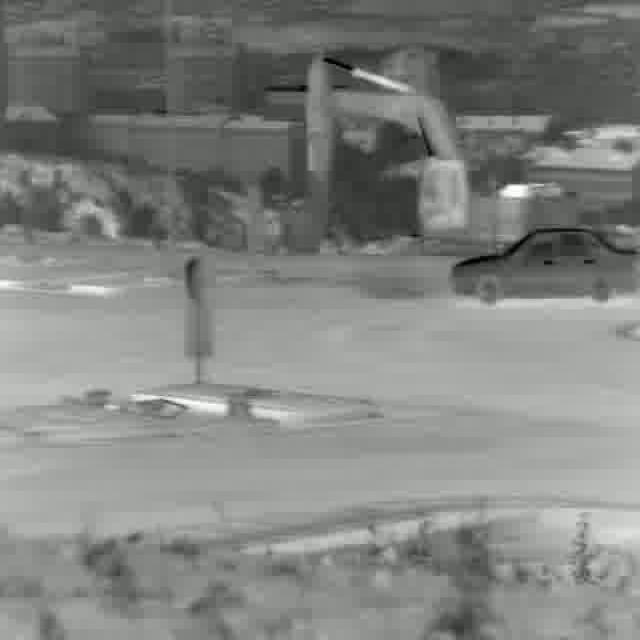Car: (451, 227, 640, 306)
